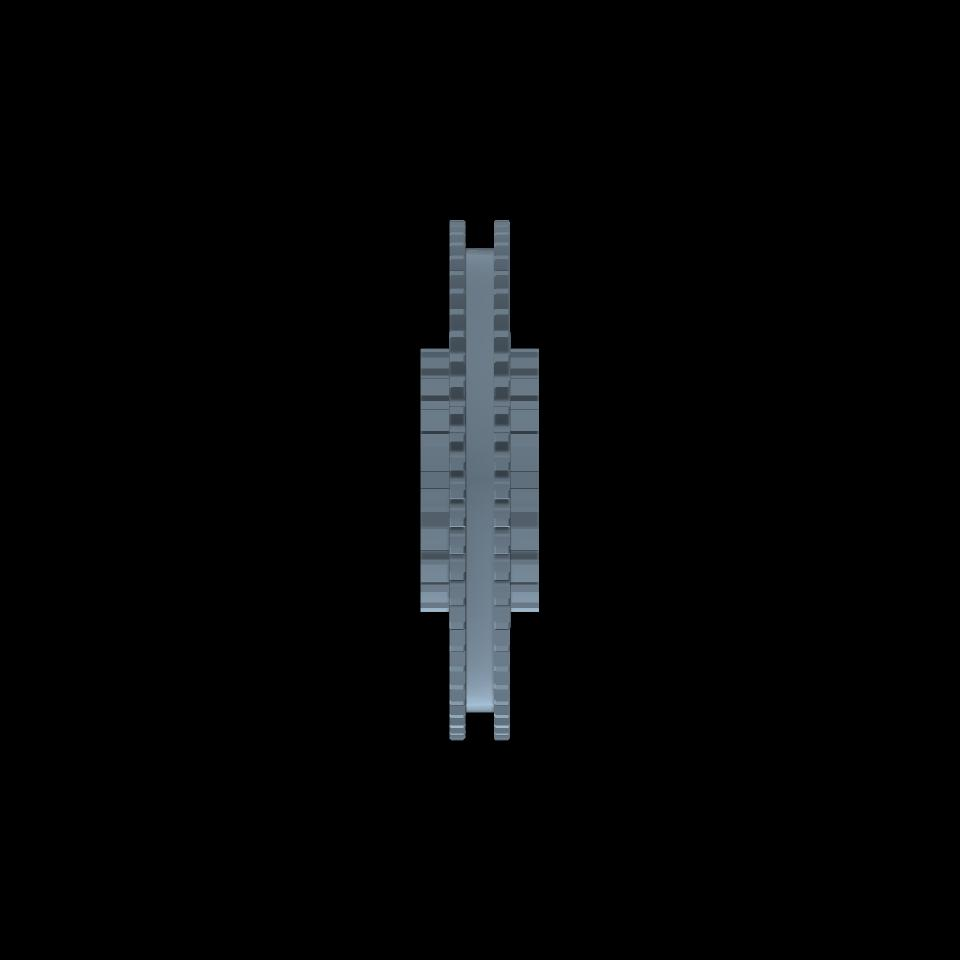Straight: (449, 220, 466, 739), (509, 349, 540, 612), (494, 220, 509, 739), (419, 348, 448, 612)
